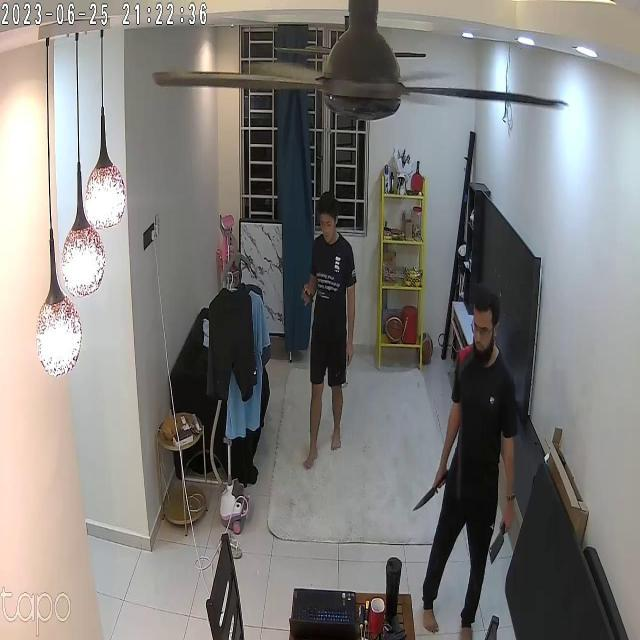Knife: (406, 460, 458, 515), (483, 519, 515, 567)
